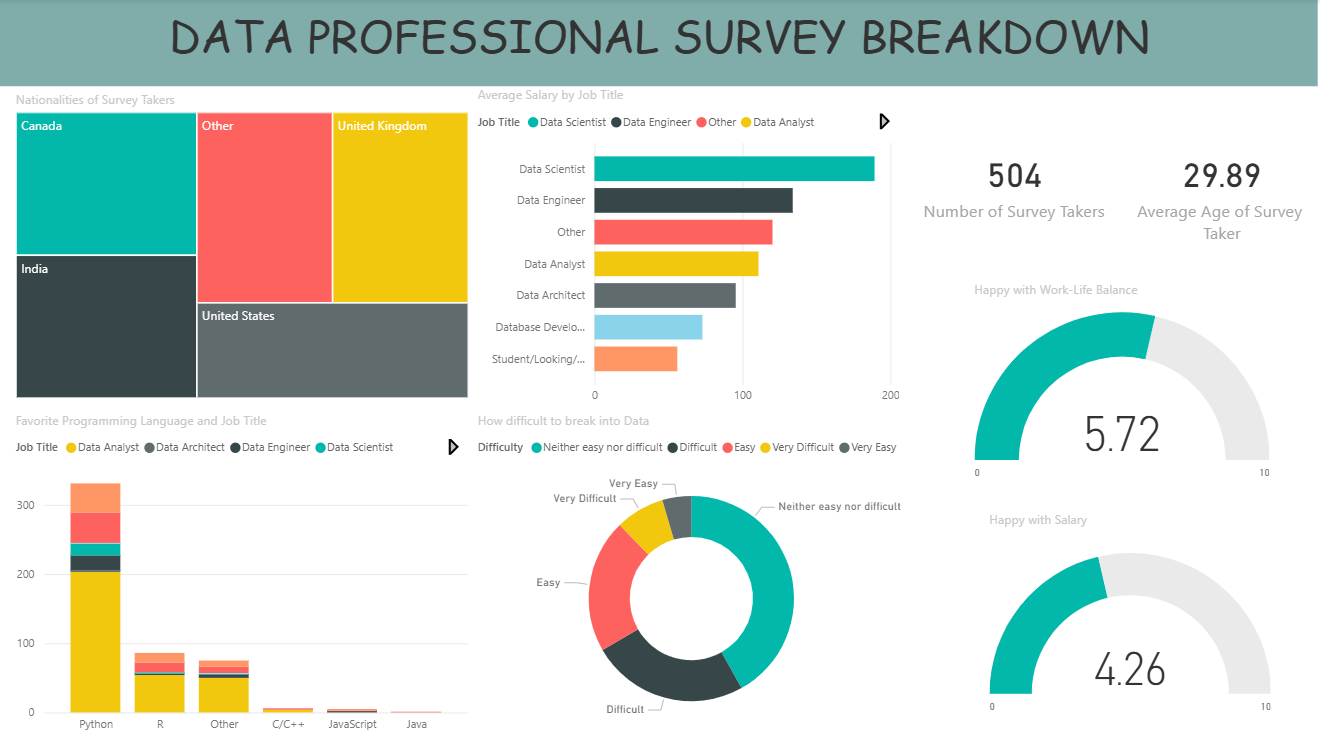

The page's visual inventory and layout, read from the dashboard file:
{"tool":"powerbi","page":{"name":"Page 1","canvas":[1280,720],"ordinal":0},"visuals":[{"type":"textbox","box":[0,0,1278.8,84.5],"z":0},{"type":"card","fields":{"Values":["CountNonNull(Data Professional Survey.Unique ID)"]},"box":[877.9,84.5,212,188.8],"z":1000},{"type":"card","fields":{"Values":["Avg(Data Professional Survey.Q10 - Current Age)"]},"box":[1090,84.5,190.5,188.8],"z":2000},{"type":"barChart","title":"Average Salary by Job Title","fields":{"Category":["Data Professional Survey.Q1 - Which Title Best Fits your Current Role?.1"],"Y":["Avg(Data Professional Survey.Average Salary)"],"Series":["Data Professional Survey.Q1 - Which Title Best Fits your Current Role?.1"]},"box":[458.8,84.5,419.1,316.4],"z":3000},{"type":"columnChart","title":"Favorite Programming Language and Job Title","fields":{"Category":["Data Professional Survey.Q5 - Favorite Programming Language.1"],"Y":["CountNonNull(Data Professional Survey.Unique ID)"],"Series":["Data Professional Survey.Q1 - Which Title Best Fits your Current Role?.1"]},"box":[9.9,400.9,448.9,319.7],"z":4000},{"type":"treemap","title":"Nationalities of Survey Takers","fields":{"Group":["Data Professional Survey.Q11 - Which Country do you live in?.1"],"Values":["Count(Data Professional Survey.Q11 - Which Country do you live in?.1)"]},"box":[9.9,89.4,448.9,303.1],"z":5000},{"type":"gauge","title":"Happy with Work-Life Balance","fields":{"Y":["Avg(Data Professional Survey.Q6 - How Happy are you in your Current Position with the following? (Work/Life Balance))"],"MinValue":["Min(Data Professional Survey.Q6 - How Happy are you in your Current Position with the following? (Work/Life Balance))"],"MaxValue":["Max(Data Professional Survey.Q6 - How Happy are you in your Current Position with the following? (Work/Life Balance))"]},"box":[940.9,273.3,296.5,208.7],"z":6000},{"type":"gauge","title":"Happy with Salary","fields":{"Y":["Avg(Data Professional Survey.Q6 - How Happy are you in your Current Position with the following? (Salary))"],"MinValue":["Min(Data Professional Survey.Q6 - How Happy are you in your Current Position with the following? (Salary))"],"MaxValue":["Max(Data Professional Survey.Q6 - How Happy are you in your Current Position with the following? (Salary))"]},"box":[954.1,496.9,283.3,223.6],"z":7000},{"type":"donutChart","title":"How difficult to break into Data","fields":{"Category":["Data Professional Survey.Q7 - How difficult was it for you to break into Data?"],"Y":["CountNonNull(Data Professional Survey.Q7 - How difficult was it for you to break into Data?)"]},"box":[458.8,400.9,424.1,319.7],"z":8000}]}

Visuals, with their boxes in screenshot pixels (x1, y1, x2, y2), scaled from the page's 1280x720 canvas onto the 1320x738 screenshot:
textbox: bbox=(0, 0, 1319, 87)
card - CountNonNull(Data Professional Survey.Unique ID): bbox=(905, 87, 1124, 280)
card - Avg(Data Professional Survey.Q10 - Current Age): bbox=(1124, 87, 1319, 280)
"Average Salary by Job Title" barChart: bbox=(473, 87, 905, 411)
"Favorite Programming Language and Job Title" columnChart: bbox=(10, 411, 473, 737)
"Nationalities of Survey Takers" treemap: bbox=(10, 92, 473, 402)
"Happy with Work-Life Balance" gauge: bbox=(970, 280, 1276, 494)
"Happy with Salary" gauge: bbox=(984, 509, 1276, 737)
"How difficult to break into Data" donutChart: bbox=(473, 411, 910, 737)
